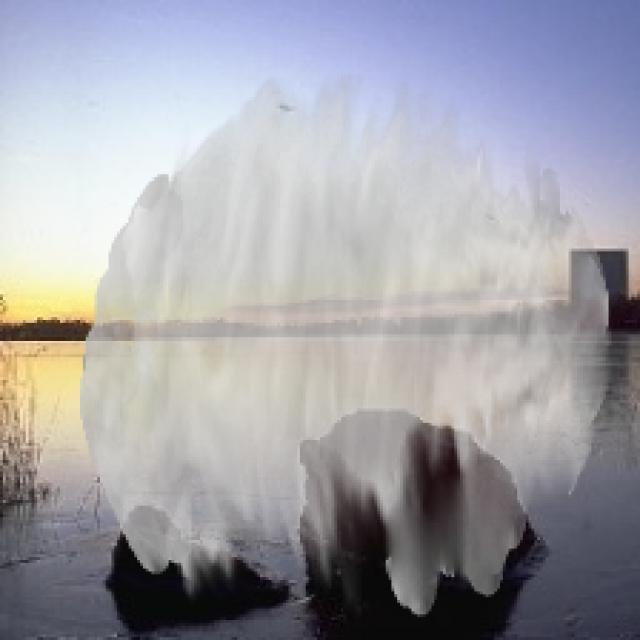Smoke: (79, 74, 612, 617)
